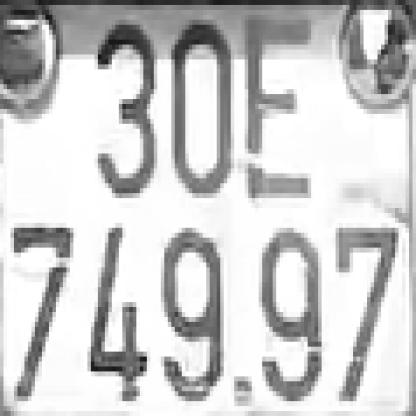0: (172, 25, 228, 193)
3: (94, 25, 158, 198)
4: (87, 223, 147, 391)
7: (336, 223, 395, 391), (14, 228, 70, 401)
9: (259, 228, 318, 396), (168, 228, 220, 396)
E: (241, 25, 315, 198)
